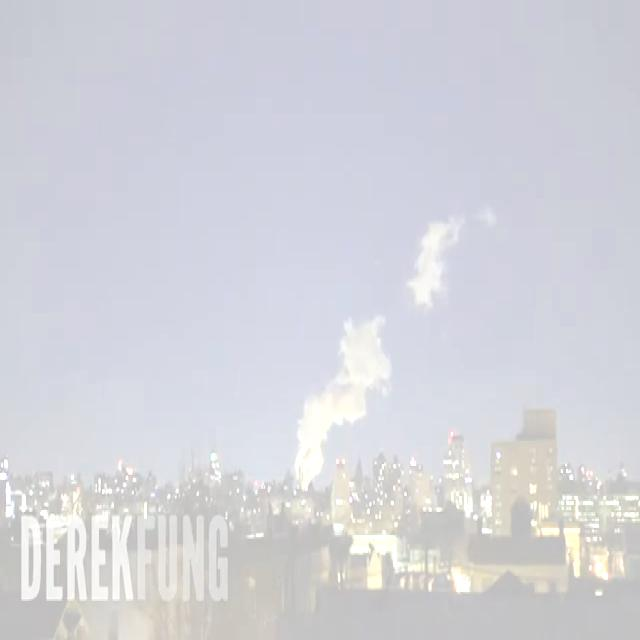smoke: (295, 316, 390, 485)
